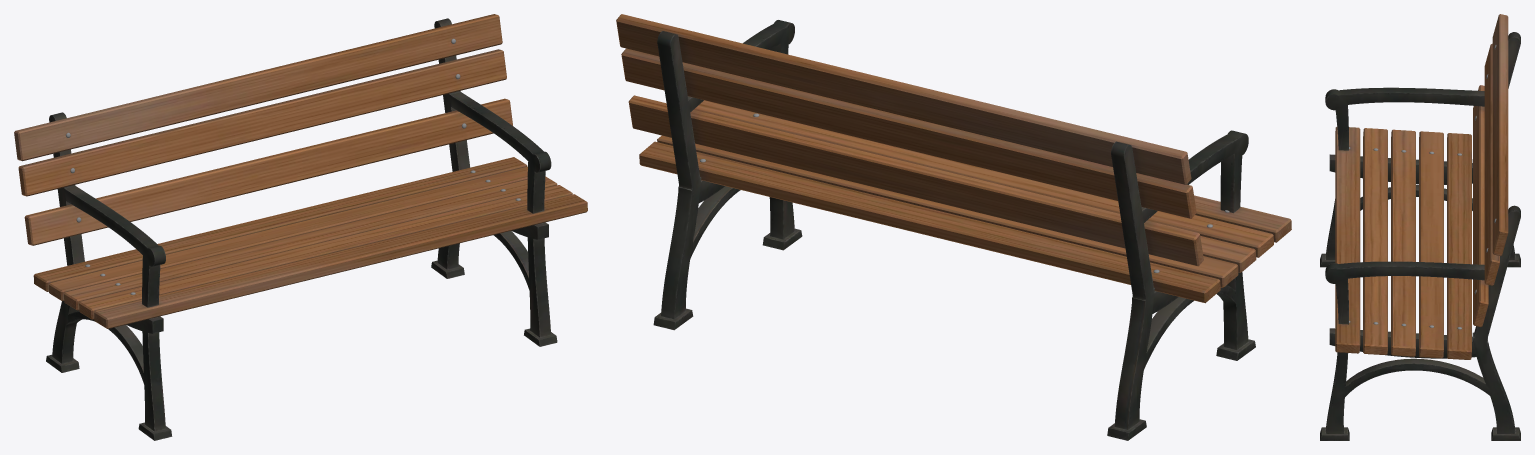
File: park_bench.glb
3 renders of one model, left to right at view 1: azimuth 30°, elevation 25°; view 2: azimuth 150°, elevation 25°; view 3: azimuth 270°, elevation 25°, orthographic. The views are drawn at different scales.
Parts seen in each view (by area): view 1: park-bench_body; view 2: park-bench_body; view 3: park-bench_body.
Boxes of the visible parts, left/top/right/bottom form: park-bench_body: left=14, top=14, right=587, bottom=440; park-bench_body: left=616, top=14, right=1291, bottom=440; park-bench_body: left=1320, top=14, right=1520, bottom=440.
Size of the model in its own units: 1.8 by 0.8843 by 0.7041.
1 material, 1 textured.
